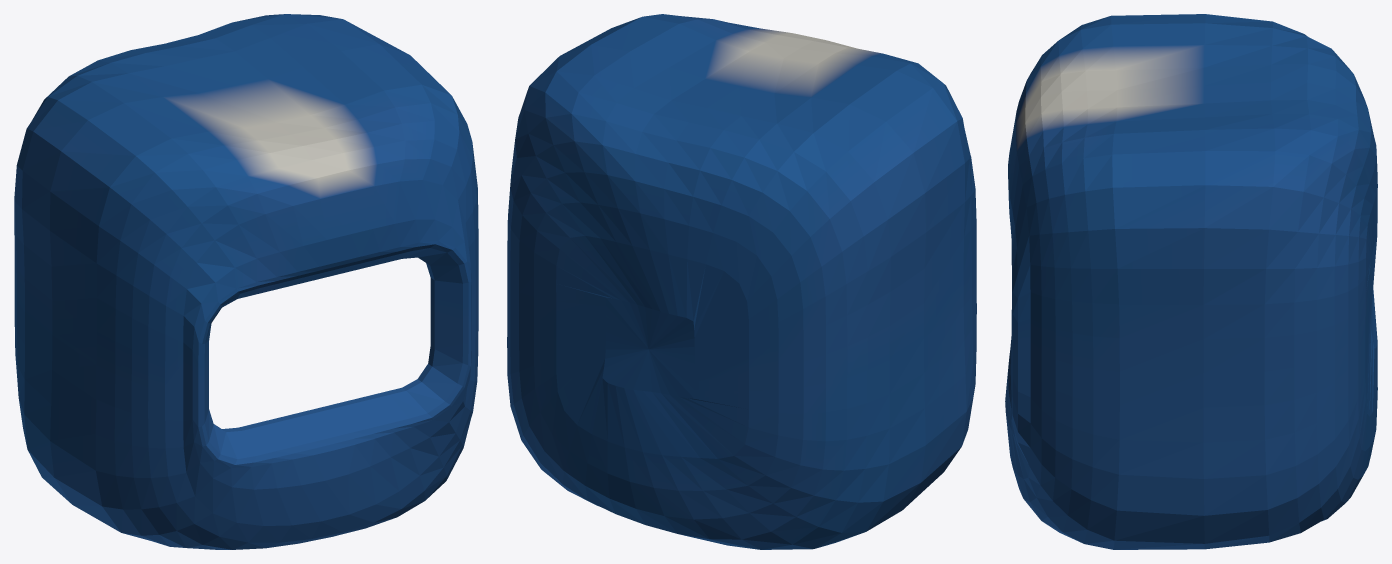
The model's file is barrel.glb.
The picture shows the model from 3 angles, left to right: view 1: azimuth 30°, elevation 25°; view 2: azimuth 150°, elevation 25°; view 3: azimuth 270°, elevation 25°; orthographic projection.
Visible parts, largest first — view 1: geometry_0; view 2: geometry_0; view 3: geometry_0.
Part boxes in pixels (left/top/right/bottom): geometry_0: left=14, top=14, right=478, bottom=549; geometry_0: left=507, top=14, right=976, bottom=549; geometry_0: left=1005, top=14, right=1377, bottom=549.
Size of the model in its own units: 1.8 by 1.86 by 1.54.
